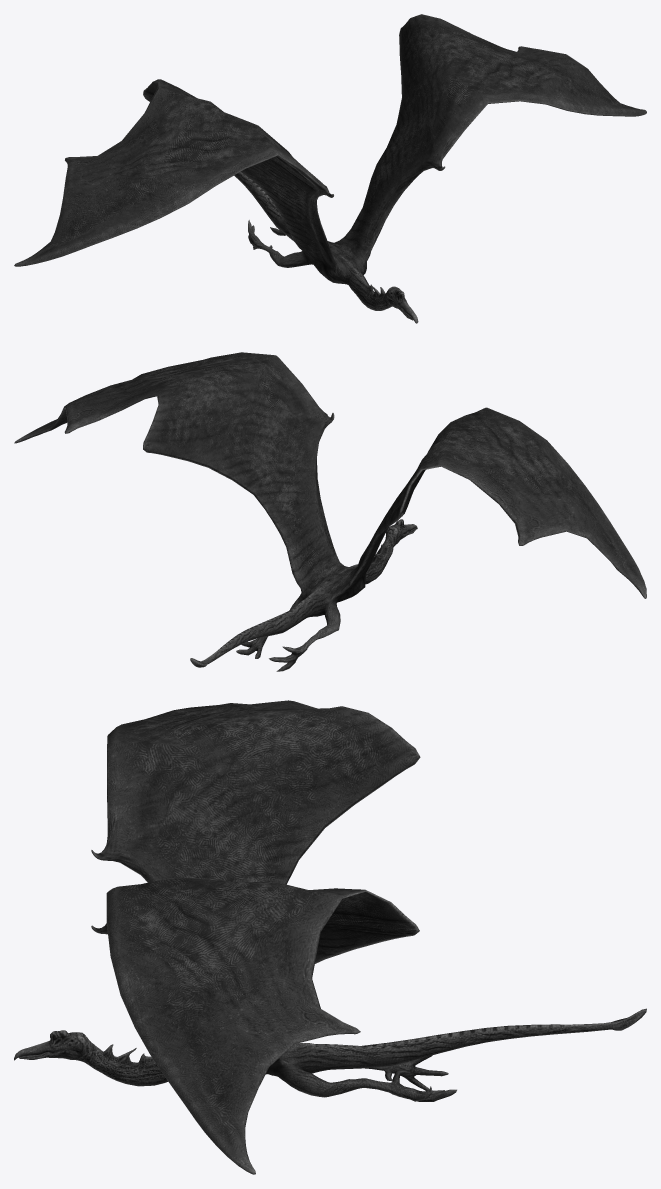
The model's file is Fellbeast_Animate_Flying_8.obj.
The picture shows the model from 3 angles, top to bottom: view 1: azimuth 30°, elevation 25°; view 2: azimuth 150°, elevation 25°; view 3: azimuth 270°, elevation 25°; orthographic projection. The views are drawn at different scales.
Parts seen in each view (by area): view 1: Fellbeast; view 2: Fellbeast; view 3: Fellbeast.
Boxes of the visible parts, x1,y1,x2,y2 form: Fellbeast: (14,14,646,323); Fellbeast: (14,352,646,671); Fellbeast: (14,700,646,1174).
Bounding box in the file's own units: 7.03 × 2.29 × 4.36.
